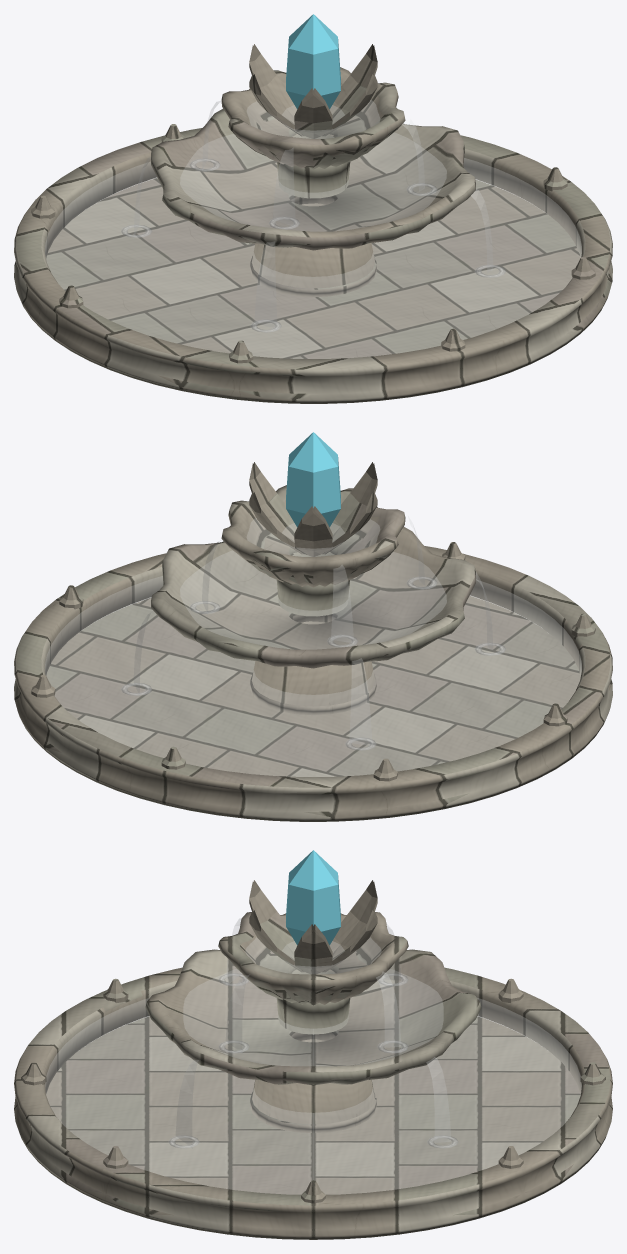
File: Furn_Fountain2.fbx
3 views of the same model, one above another, from view 1: azimuth 30°, elevation 25°; view 2: azimuth 150°, elevation 25°; view 3: azimuth 270°, elevation 25° (orthographic).
Parts seen in each view (by area): view 1: Furn_Fountain2_Mesh; view 2: Furn_Fountain2_Mesh; view 3: Furn_Fountain2_Mesh.
Boxes of the visible parts, box(x1,y1,x2,y2) form: Furn_Fountain2_Mesh: box(14, 14, 612, 403); Furn_Fountain2_Mesh: box(14, 432, 612, 821); Furn_Fountain2_Mesh: box(14, 850, 612, 1239).
Bounding box in the file's own units: 7.2 × 3.5 × 7.2.
4 materials, 1 textured.
